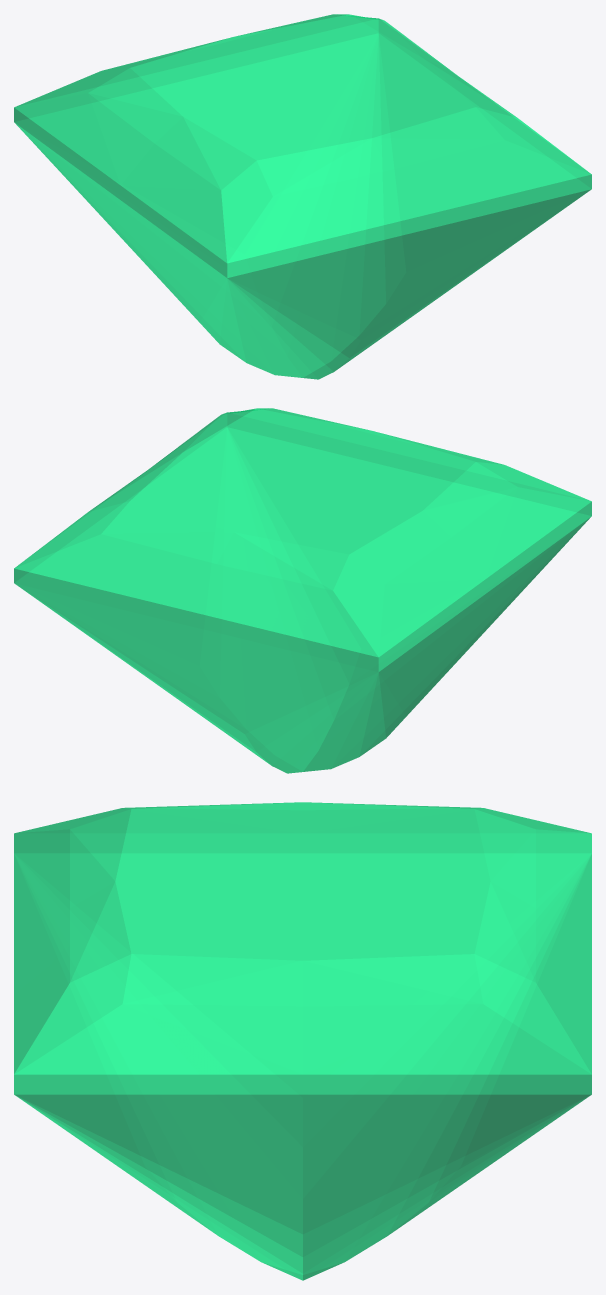
The model's file is princess peridot.glb.
The picture shows the model from 3 angles, top to bottom: view 1: azimuth 30°, elevation 25°; view 2: azimuth 150°, elevation 25°; view 3: azimuth 270°, elevation 25°; orthographic projection. The views are drawn at different scales.
Visible parts, largest first — view 1: Princess; view 2: Princess; view 3: Princess.
Part boxes in pixels (box(x1,y1,x2,y2)): Princess: box(14, 14, 591, 379); Princess: box(14, 408, 591, 773); Princess: box(14, 802, 591, 1280).
Bounding box in the file's own units: 1.38 × 1.05 × 1.4.
